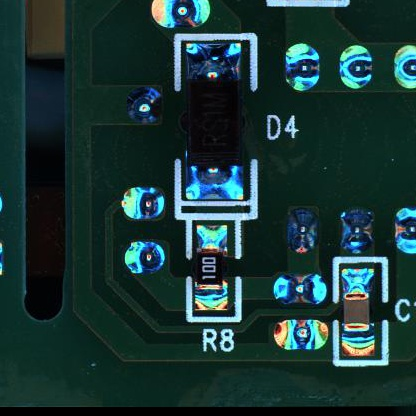spot: (272, 272, 327, 308), (285, 43, 321, 95), (150, 1, 213, 29), (274, 319, 329, 351), (120, 184, 167, 221), (339, 208, 376, 255), (340, 44, 374, 91), (127, 84, 163, 127), (287, 208, 319, 255), (123, 241, 166, 274), (391, 204, 415, 257), (391, 43, 415, 93)
